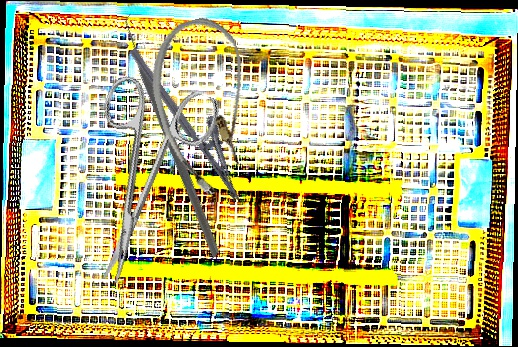Cannula: (136, 10, 275, 203)
Chopper: (42, 2, 310, 259)
Iris Scissors: (51, 66, 225, 298)
Needle Holder: (128, 33, 261, 203)
